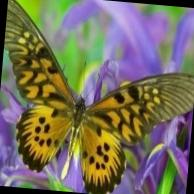butterfly: (4, 0, 194, 194)
